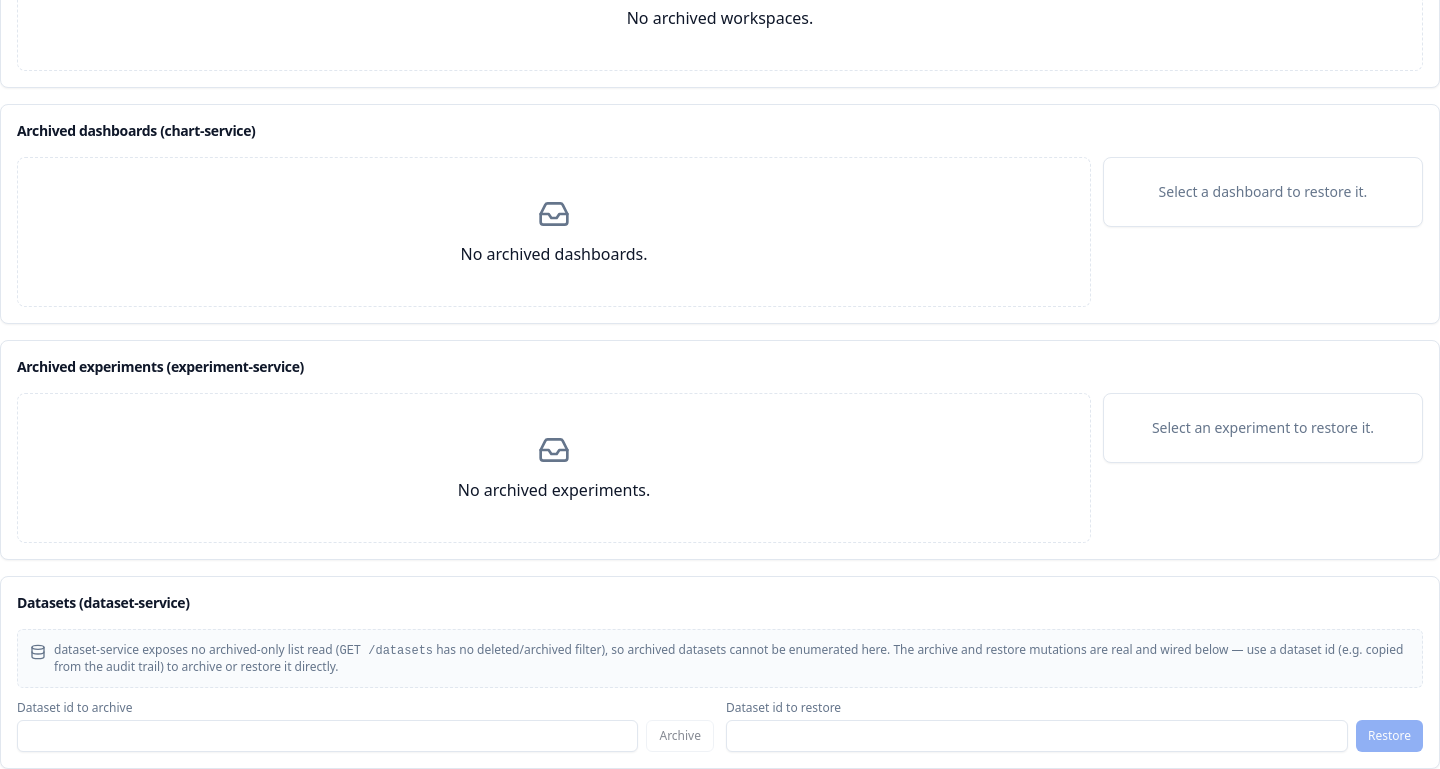
Test case: Admin Archive page › surfaces a real downstream error for archiveDataset honestly
(page scrolled)
Type "boom" into the field labelled "Dataset id to archive". click: {"x": 328, "y": 736}
box: [17, 720, 638, 752]
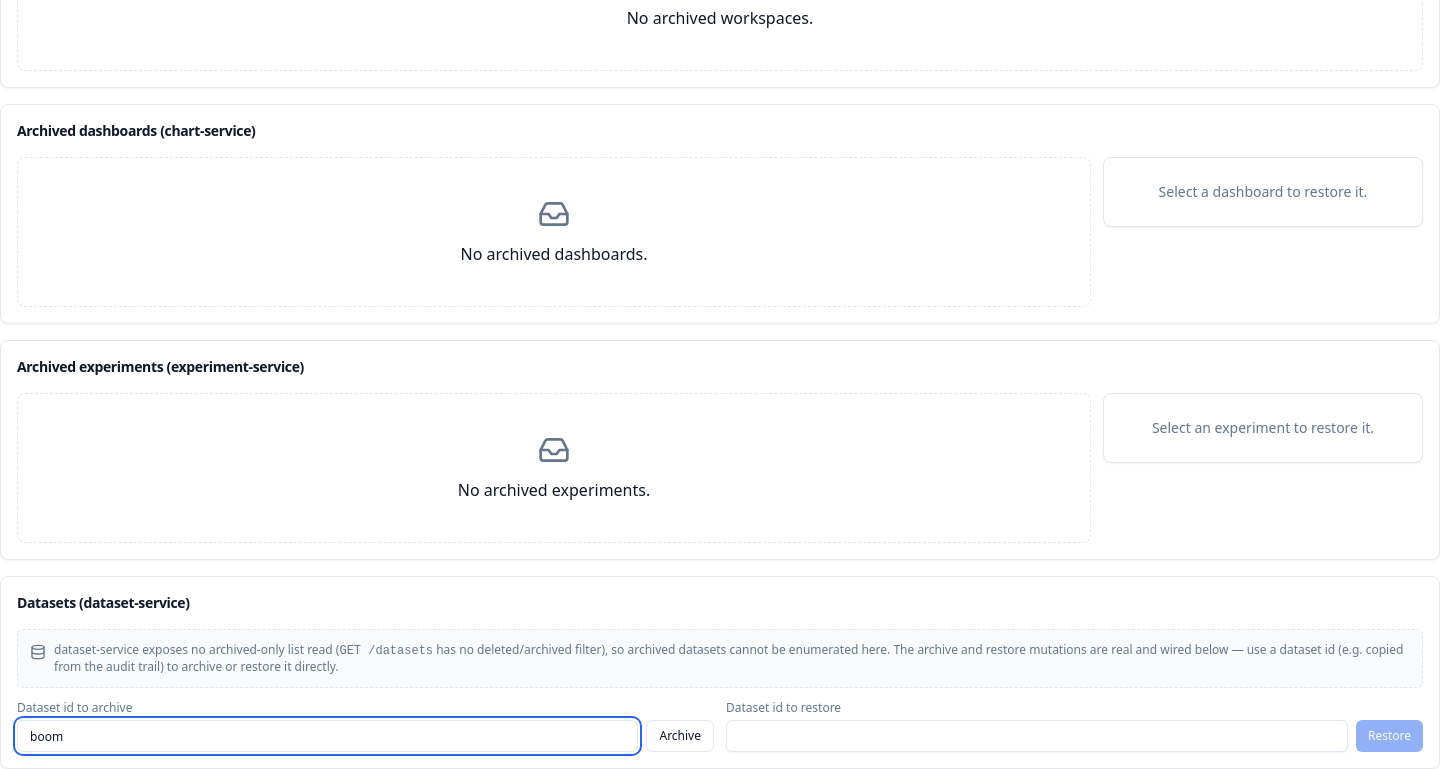
Click the button "Archive". click: {"x": 680, "y": 736}
box: [646, 720, 714, 752]
(page scrolled)
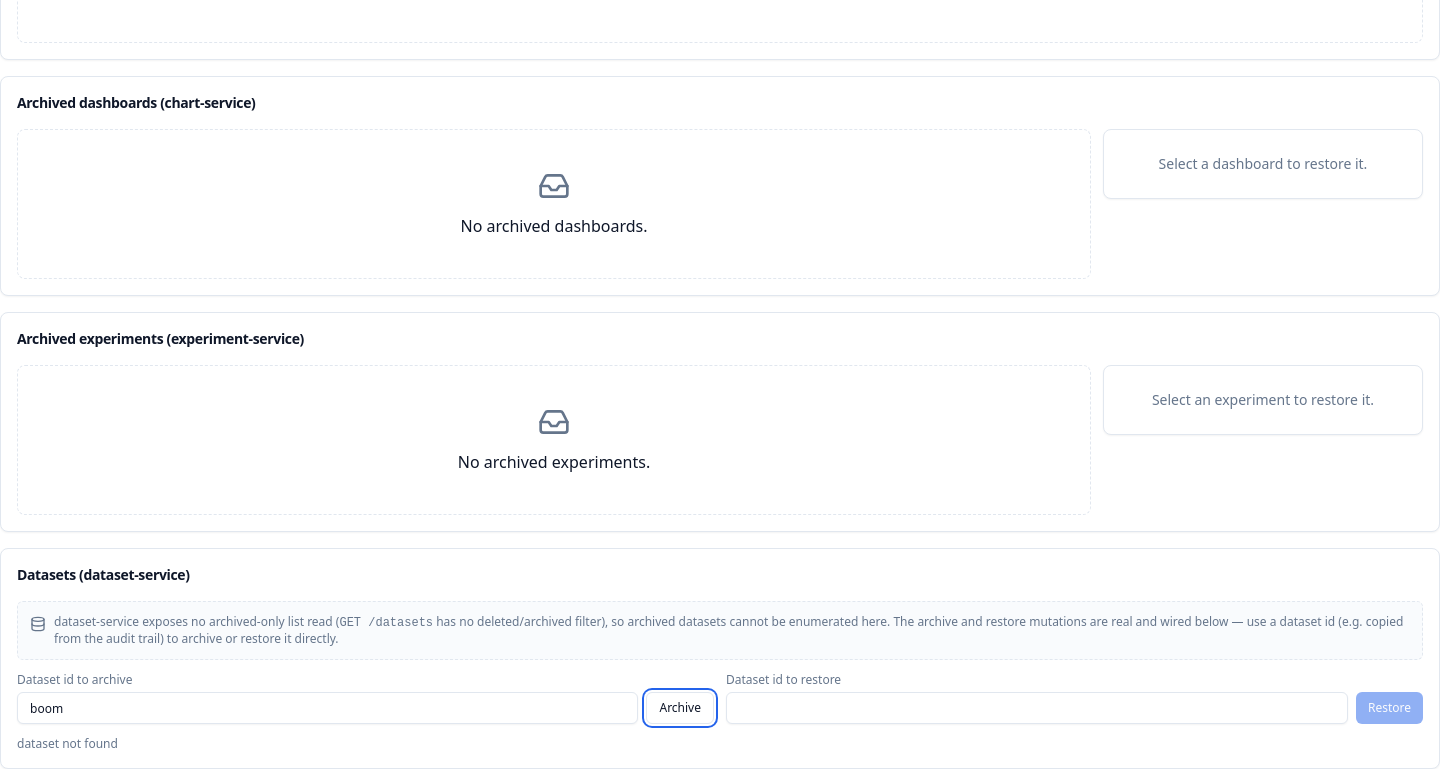
Now the text "dataset not found" is shown, box [17, 735, 118, 752]
